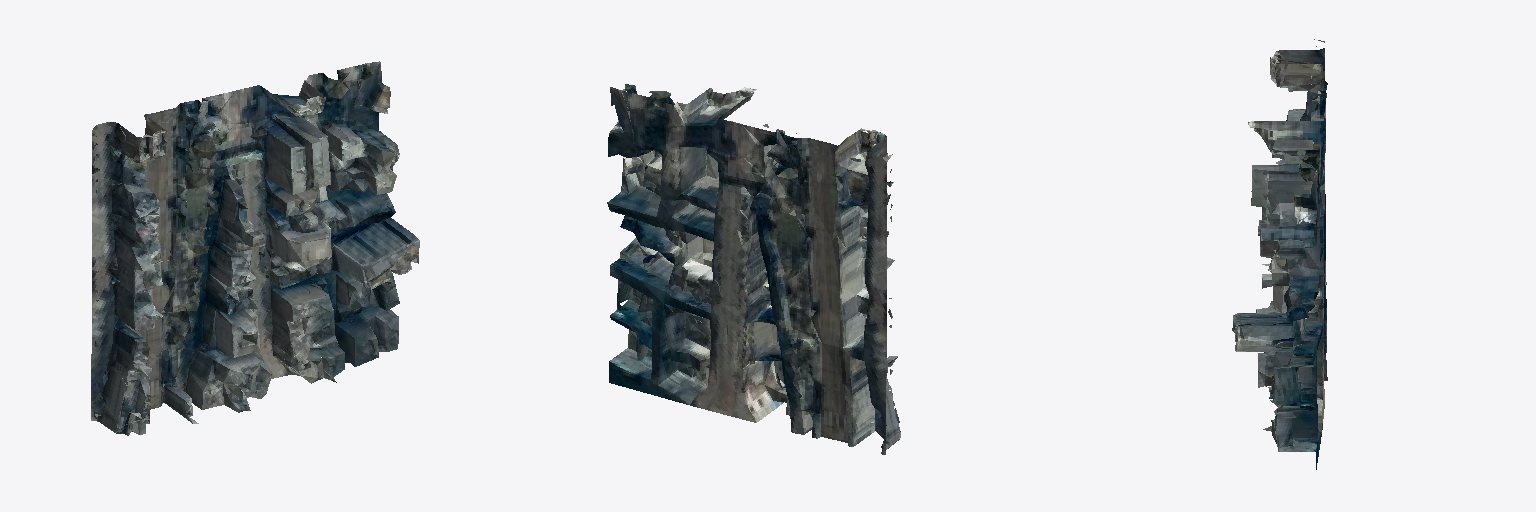
The picture shows the model from 3 angles: view 1: azimuth 30°, elevation 25°; view 2: azimuth 150°, elevation 25°; view 3: azimuth 270°, elevation 25°; orthographic projection.
Parts seen in each view (by area): view 1: Tile_173078_LD_011_017_L15.osgb__Geometry_0; view 2: Tile_173078_LD_011_017_L15.osgb__Geometry_0; view 3: Tile_173078_LD_011_017_L15.osgb__Geometry_0.
Boxes of the visible parts, <box> form: Tile_173078_LD_011_017_L15.osgb__Geometry_0: <box>91,61,419,435</box>; Tile_173078_LD_011_017_L15.osgb__Geometry_0: <box>607,84,900,454</box>; Tile_173078_LD_011_017_L15.osgb__Geometry_0: <box>1232,39,1327,469</box>.
Size of the model in its own units: 255 by 255 by 74.72.
1 materials, 1 textured.